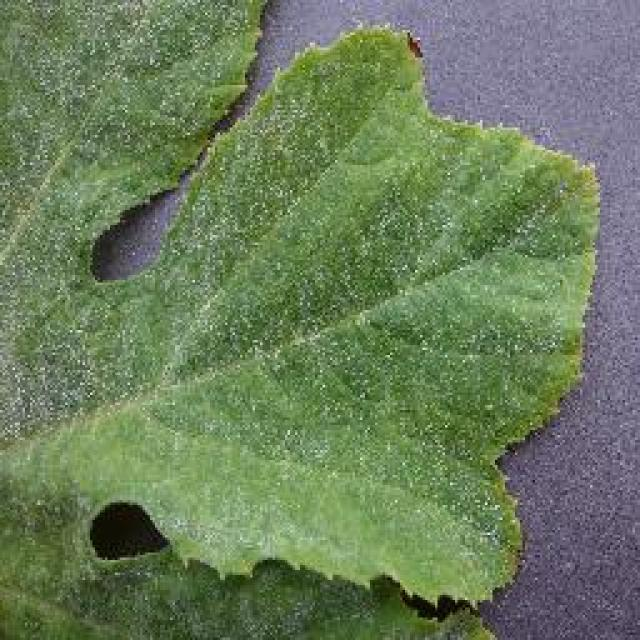Squ_Powdery_mildew: (22, 66, 531, 496)
